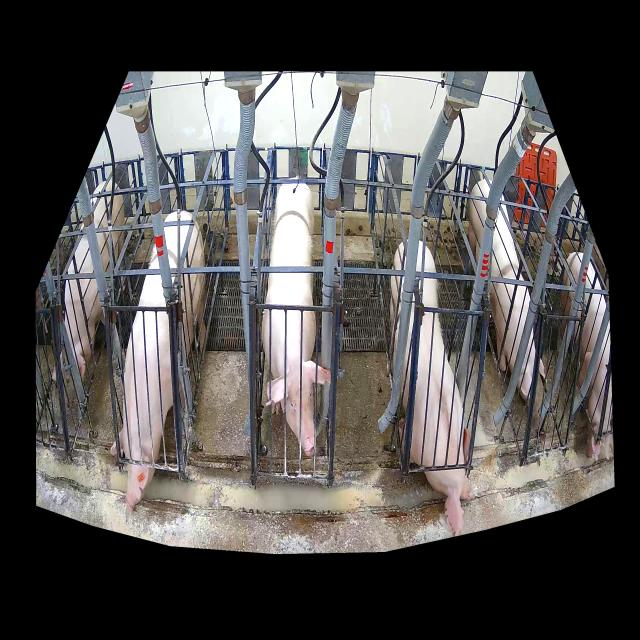pig: (110, 211, 206, 511), (390, 237, 474, 534), (261, 183, 331, 455), (466, 179, 546, 400), (64, 181, 126, 380), (559, 252, 613, 461)
